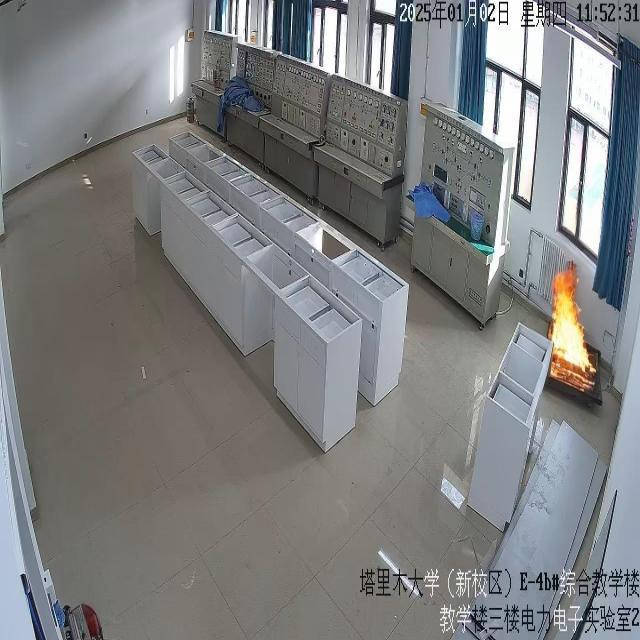smoke: (548, 262, 594, 376)
